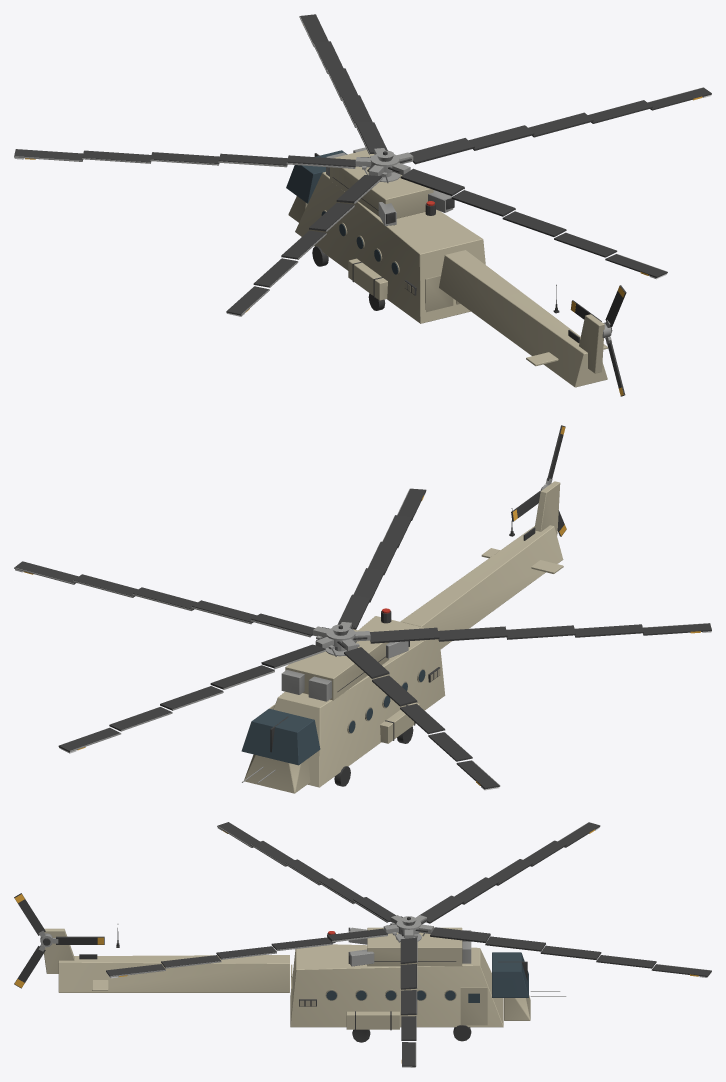
File: transport_rus.glb
The picture shows the model from 3 angles, top to bottom: view 1: azimuth 30°, elevation 25°; view 2: azimuth 150°, elevation 25°; view 3: azimuth 270°, elevation 25°; orthographic projection. The views are drawn at different scales.
Visible parts, largest first — view 1: body, rotor, trotor; view 2: body, rotor, trotor; view 3: body, rotor, trotor.
Part boxes in pixels (x1=…): body: x1=286, y1=147, x2=607, y2=387; rotor: x1=14, y1=14, x2=711, y2=316; trotor: x1=570, y1=285, x2=626, y2=396; body: x1=241, y1=481, x2=563, y2=793; rotor: x1=14, y1=488, x2=711, y2=790; trotor: x1=511, y1=425, x2=566, y2=536; body: x1=44, y1=924, x2=566, y2=1042; rotor: x1=106, y1=822, x2=711, y2=1067; trotor: x1=14, y1=893, x2=104, y2=988.
Bounding box in the file's own units: 21.29 × 5.55 × 25.77.
